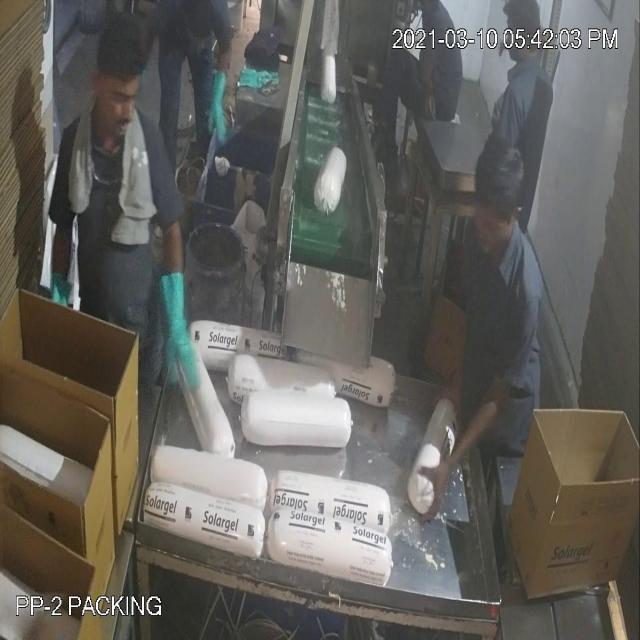Gloves: (26, 82, 469, 442)
